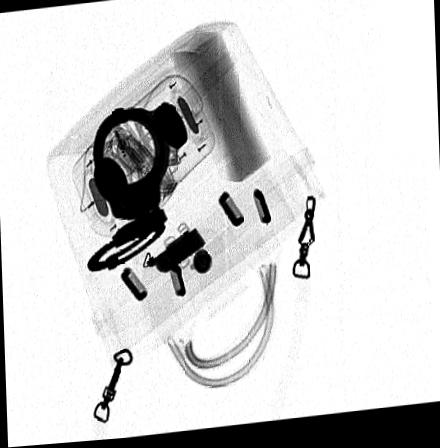HandCuffs: (86, 102, 188, 272)
